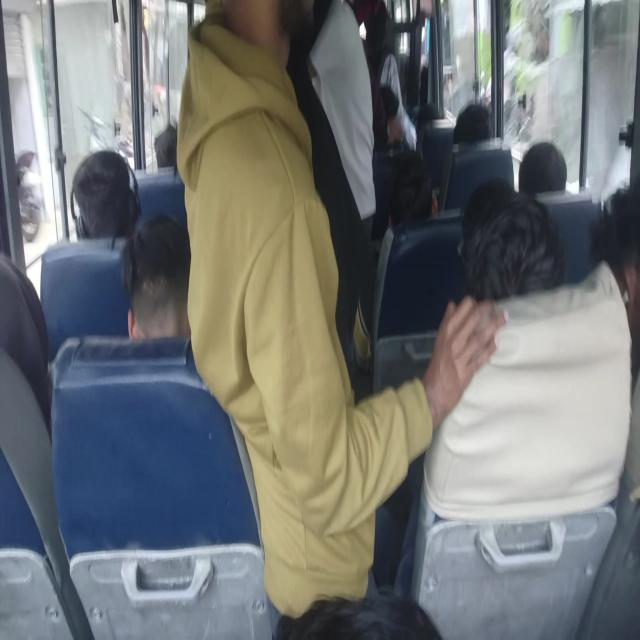person: (177, 12, 304, 191), (592, 168, 640, 482), (459, 186, 566, 304), (0, 252, 52, 442), (121, 213, 194, 341), (279, 587, 440, 638), (439, 103, 509, 208), (76, 157, 141, 240), (387, 152, 435, 231), (518, 141, 568, 196), (413, 96, 442, 161), (452, 103, 492, 145)
